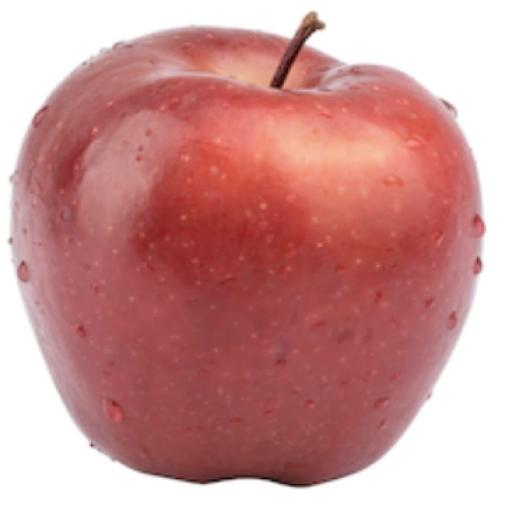apple: (13, 28, 484, 484)
